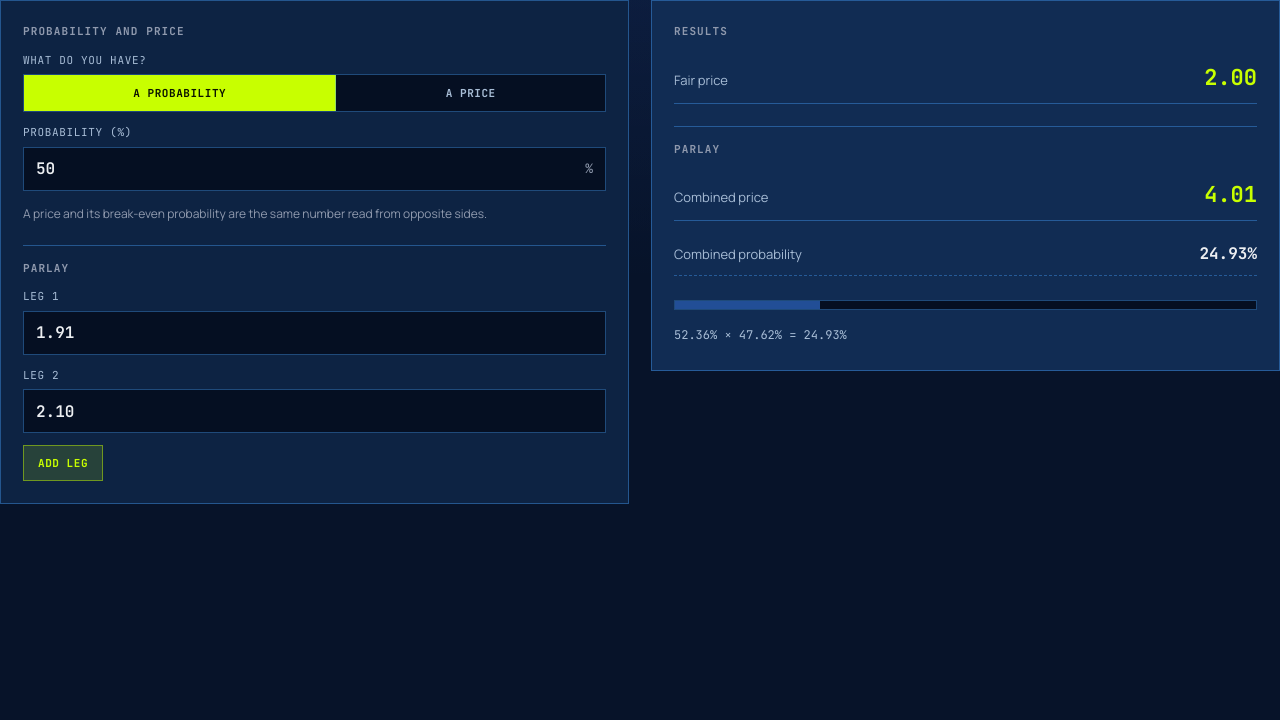
Test: probability calculator › 40% diventa una quota equa di 2.50
Type "40" into the field labelled "Probability (%)". click: (299, 168)
box: [24,148,573,190]
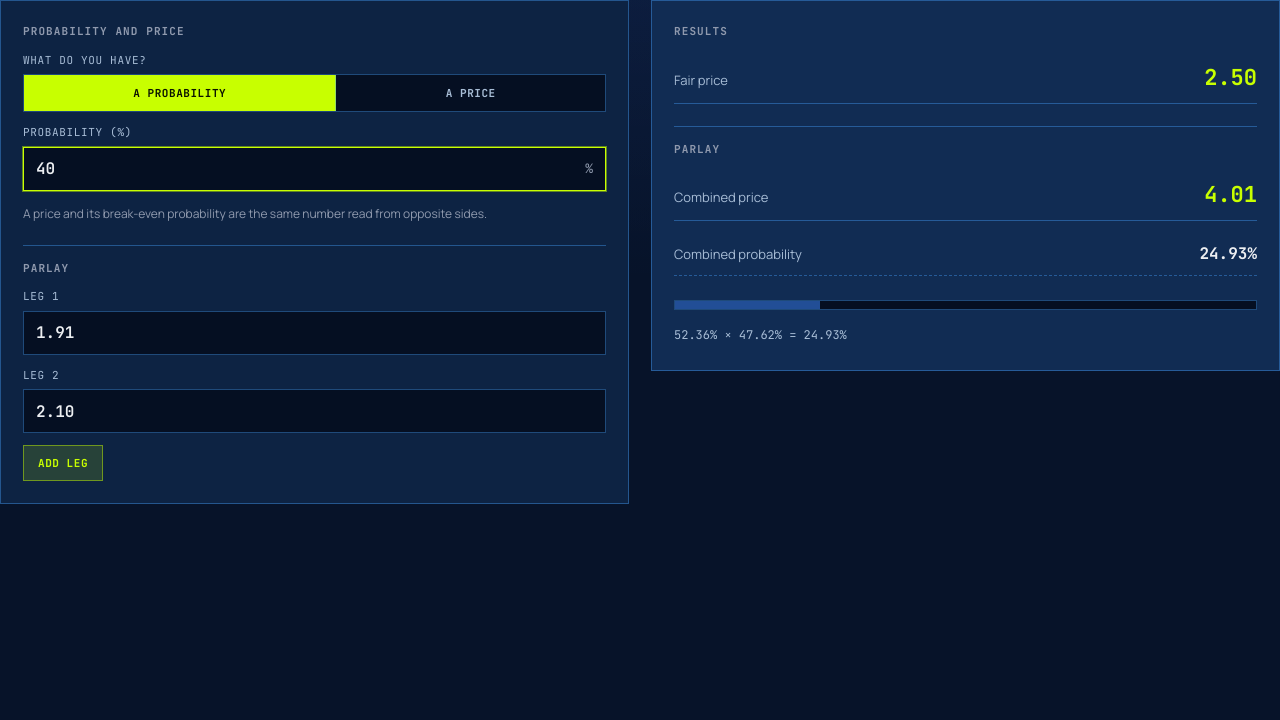
Expected: the text with test id "out-fair-odds" reads "2.50", [1204,62,1257,92]
